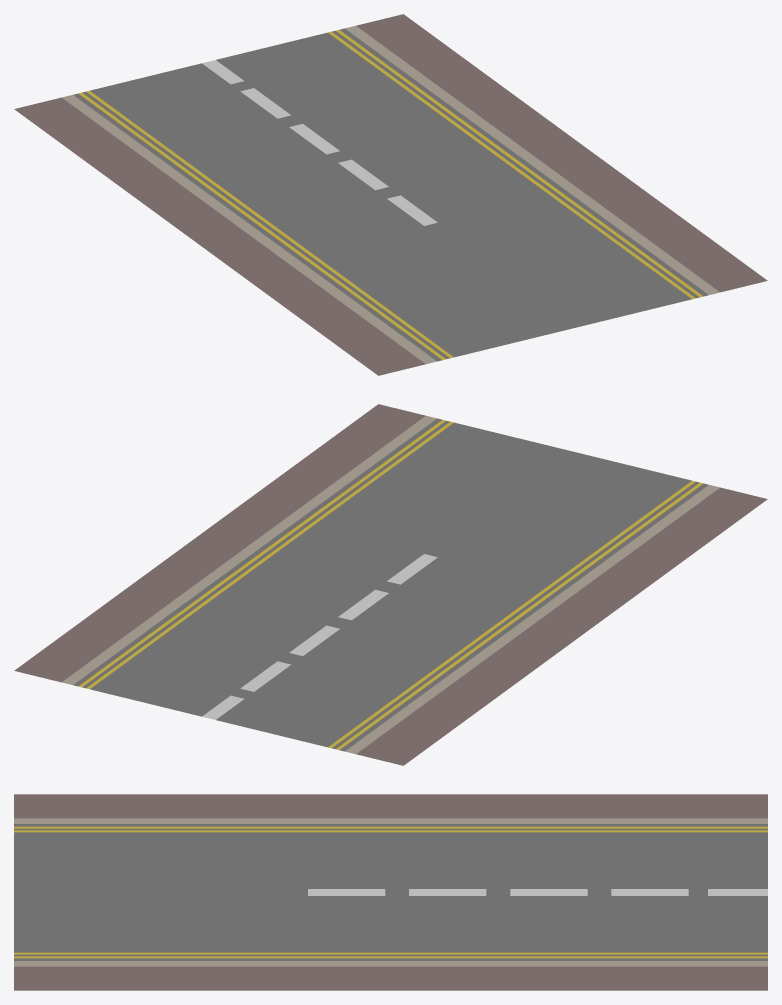
The model's file is Street.fbx.
3 views of the same model, one above another, from view 1: azimuth 30°, elevation 25°; view 2: azimuth 150°, elevation 25°; view 3: azimuth 270°, elevation 25° (orthographic). The views are drawn at different scales.
Visible parts, largest first — view 1: Plane, SideWalk, SideWalkBorder, SideLines, CenterLines; view 2: Plane, SideWalk, SideWalkBorder, SideLines, CenterLines; view 3: Plane, SideWalk, SideLines, SideWalkBorder, CenterLines.
Part boxes in pixels (<box>): Plane: <box>73,28,708,361</box>; SideWalk: <box>14,14,767,375</box>; SideWalkBorder: <box>62,25,719,364</box>; SideLines: <box>78,30,703,359</box>; CenterLines: <box>202,60,437,225</box>; Plane: <box>73,418,708,751</box>; SideWalk: <box>14,404,767,765</box>; SideWalkBorder: <box>62,415,719,754</box>; SideLines: <box>78,420,703,749</box>; CenterLines: <box>202,554,437,719</box>; Plane: <box>14,824,767,960</box>; SideWalk: <box>14,794,767,990</box>; SideLines: <box>14,826,767,958</box>; SideWalkBorder: <box>14,818,767,966</box>; CenterLines: <box>308,889,767,895</box>.
Size of the model in its own units: 2468 by 0 by 4000.
